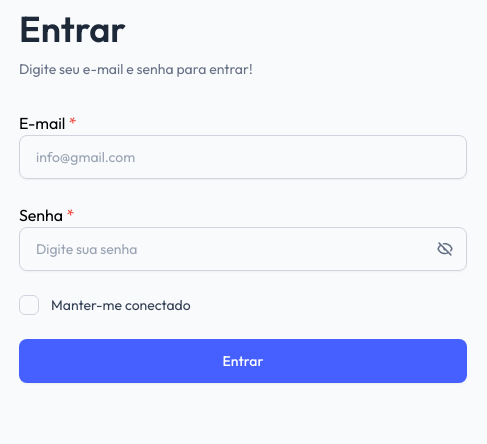
Test case: SignInForm › shows server error when login fails
Type "bad@test.co" into the field with placeholder "info@gmail.com" at (243, 157), box top-left (19, 135), bottom-right (467, 179)
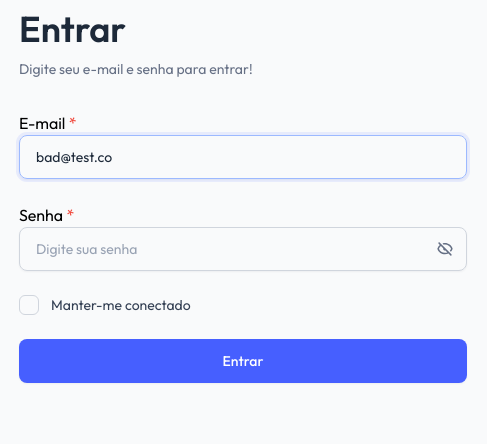
Type "wrong" into the password field with placeholder "Digite sua senha" at (243, 249), box top-left (19, 227), bottom-right (467, 271)
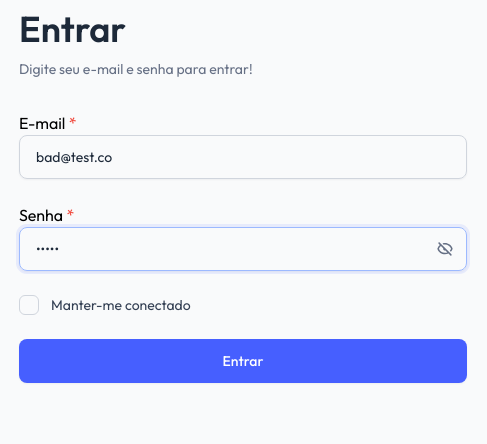
Click the button "Entrar" at (243, 361), box top-left (19, 339), bottom-right (467, 383)
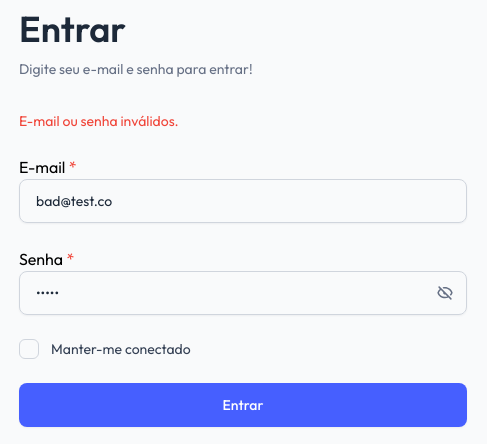
expect the text "E-mail ou senha inválidos." is shown: met, box top-left (19, 112), bottom-right (179, 130)
